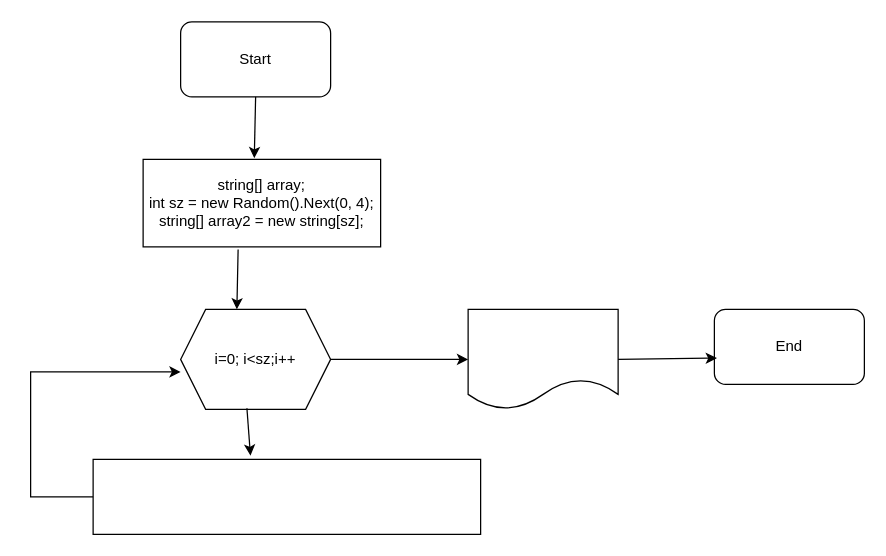
The diagram is 886 pixels wide and 556 high, and some of its shapes have lost their labels. The centre of each missing label's shape, as x and y in pixels:
array2: point 542,358
array2[i]=array[new Random().Next(0, array.Length)];: point 286,496
